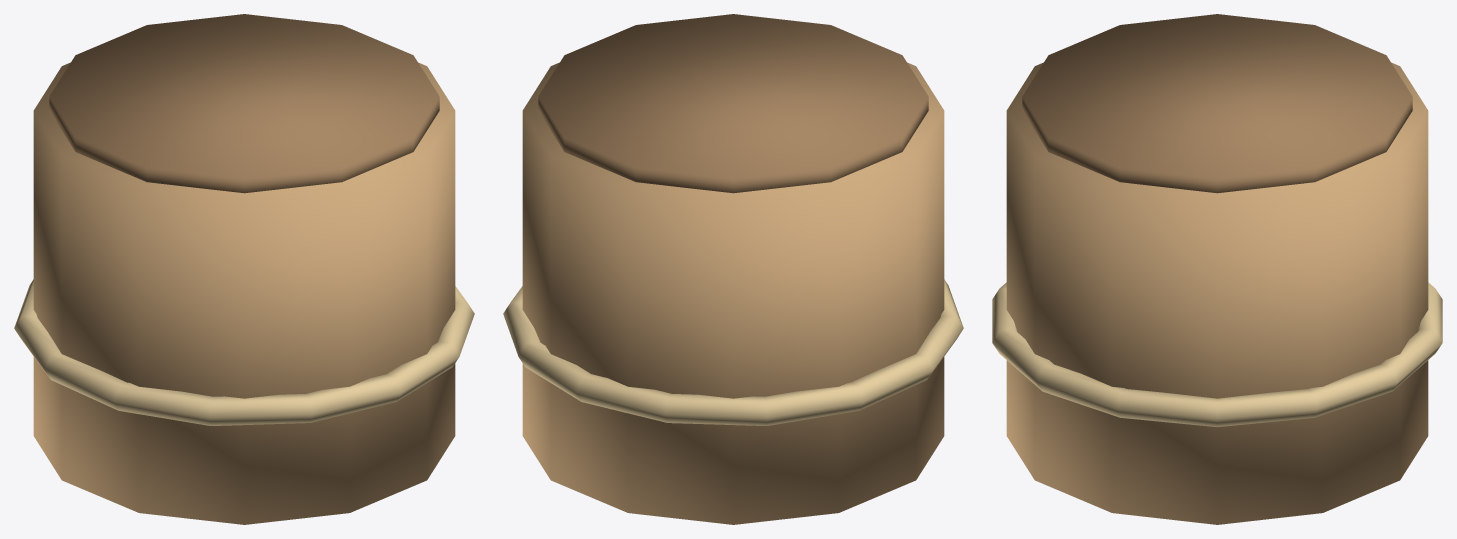
Rendered from toco_treino.glb.
3 renders of one model, left to right at view 1: azimuth 30°, elevation 25°; view 2: azimuth 150°, elevation 25°; view 3: azimuth 270°, elevation 25°, orthographic.
Visible parts, largest first — view 1: toco_treino; view 2: toco_treino; view 3: toco_treino.
Boxes of the visible parts, x1,y1,x2,y2 form: toco_treino: (14, 14, 474, 524); toco_treino: (503, 14, 963, 524); toco_treino: (992, 14, 1442, 524).
Size of the model in its own units: 0.438 by 0.355 by 0.427.
